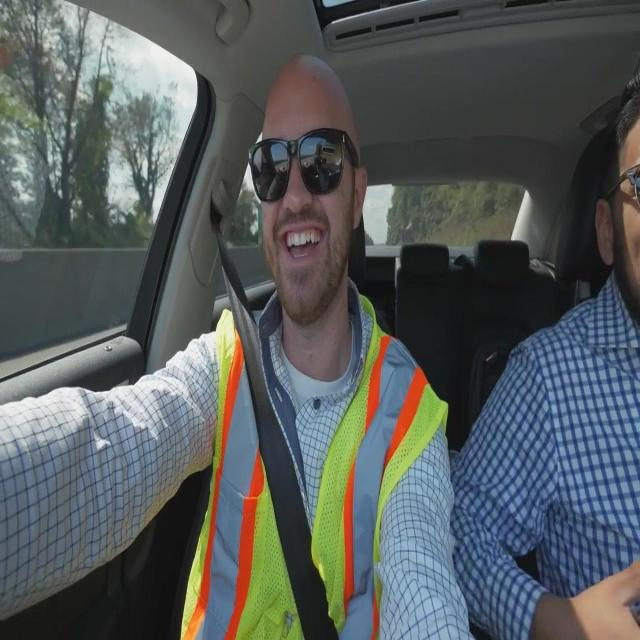Reflective-Jacket: (177, 299, 449, 636)
